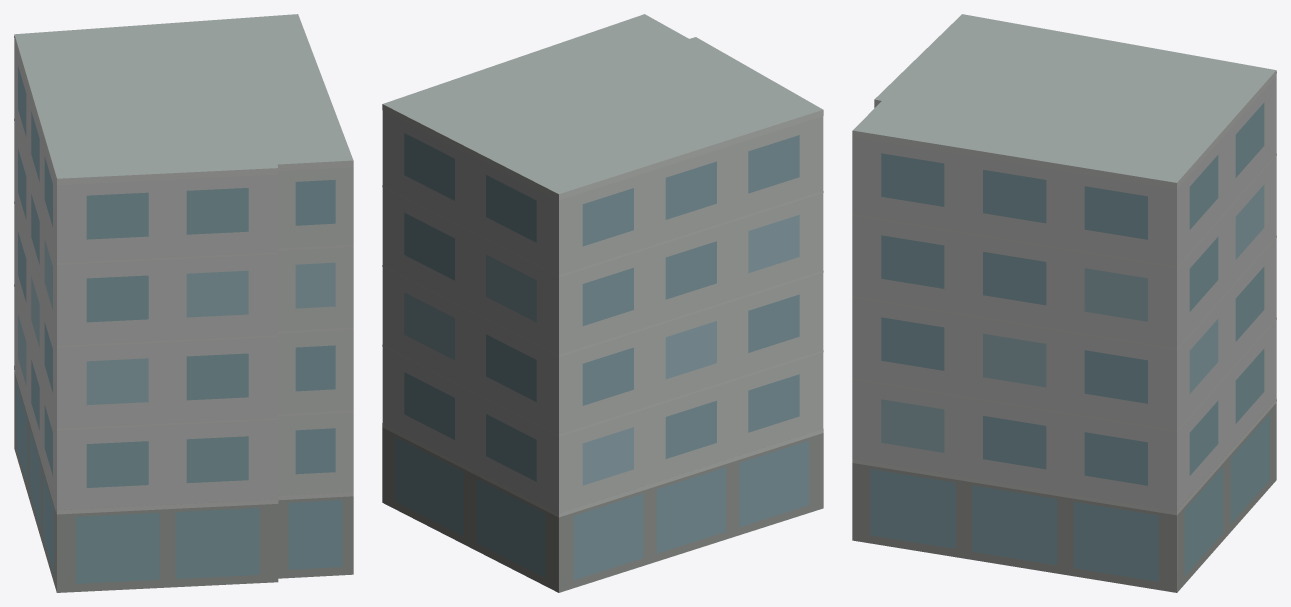
The model's file is survey-upis-32993973.glb.
The picture shows the model from 3 angles, left to right: view 1: azimuth 30°, elevation 25°; view 2: azimuth 150°, elevation 25°; view 3: azimuth 270°, elevation 25°; orthographic projection. The views are drawn at different scales.
Parts seen in each view (by area): view 1: survey-upis-32993973.tmp; view 2: survey-upis-32993973.tmp; view 3: survey-upis-32993973.tmp.
Part boxes in pixels (x1,y1,x2,y2): survey-upis-32993973.tmp: (14, 14, 353, 592); survey-upis-32993973.tmp: (382, 14, 823, 592); survey-upis-32993973.tmp: (852, 14, 1276, 592).
Size of the model in its own units: 13.5 by 15.25 by 14.32.
